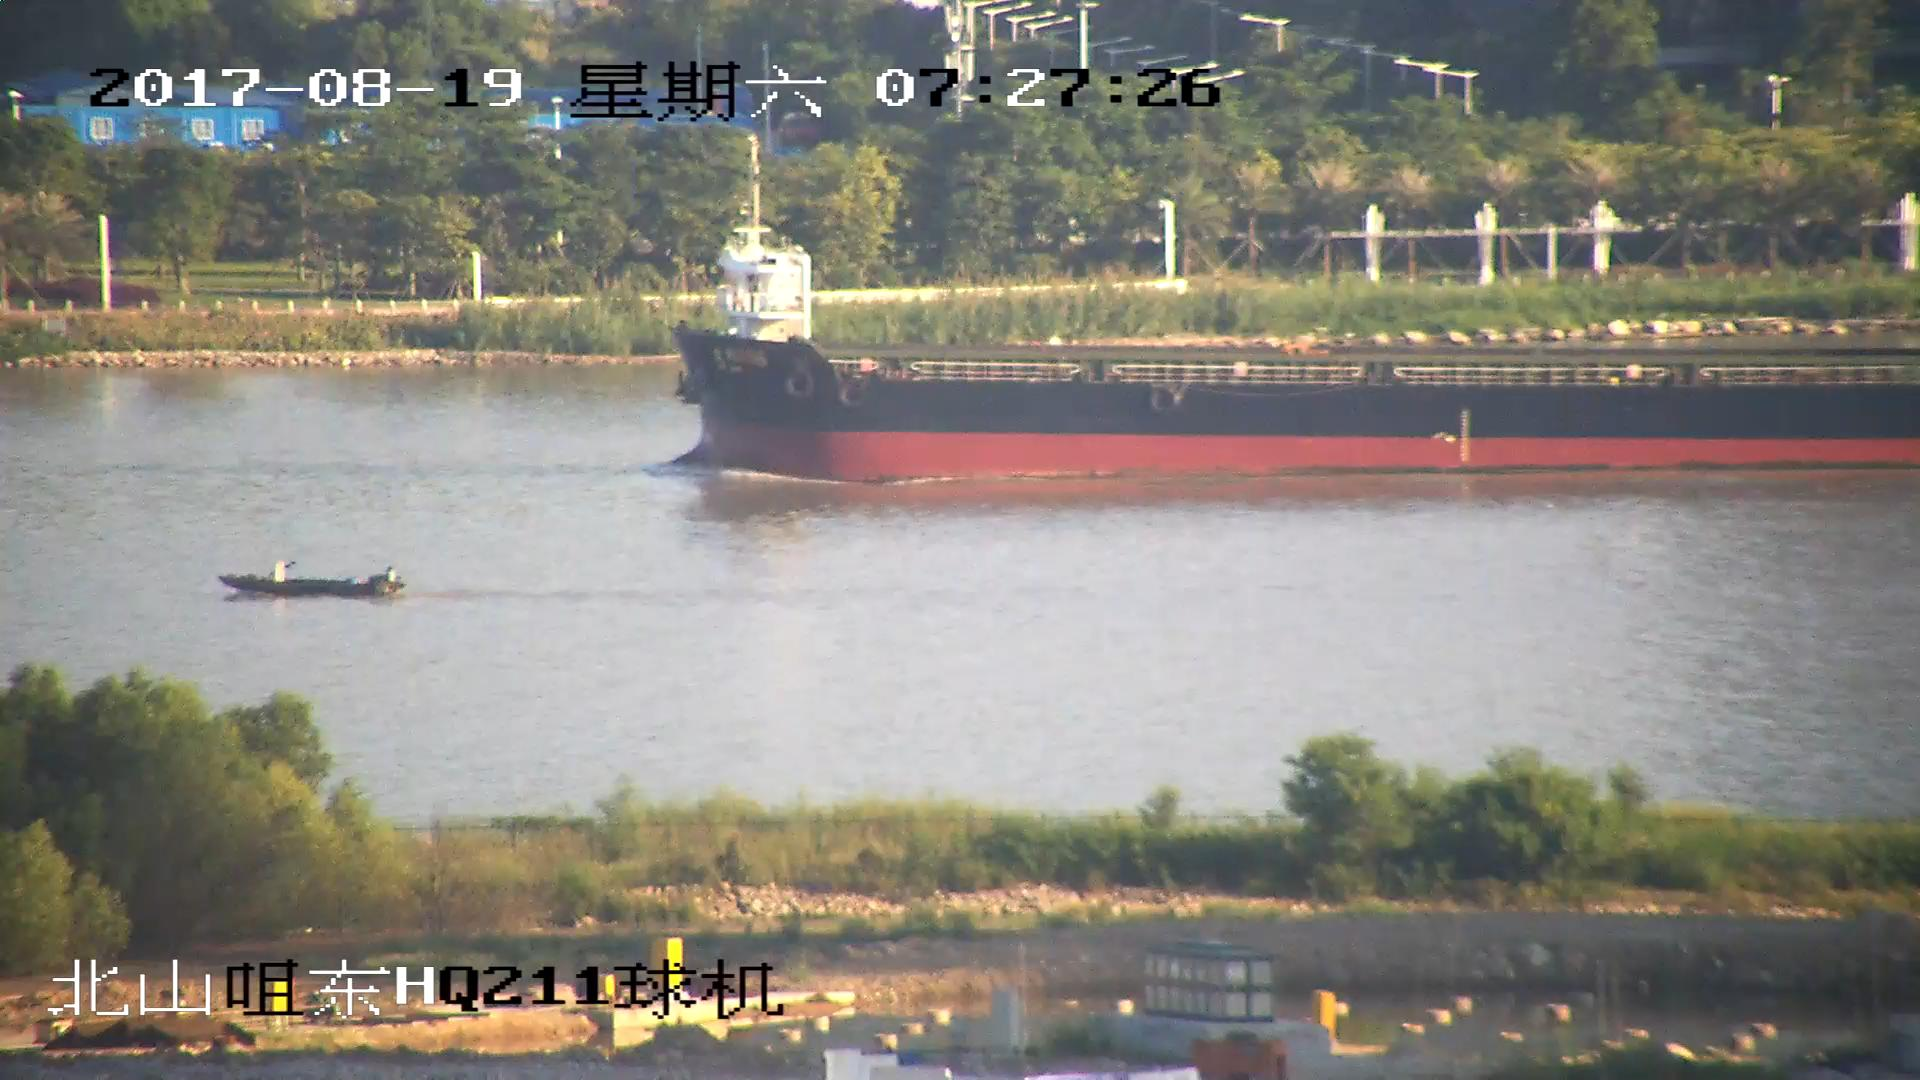fishing boat: (221, 560, 403, 606)
general cargo ship: (679, 226, 1920, 478)
